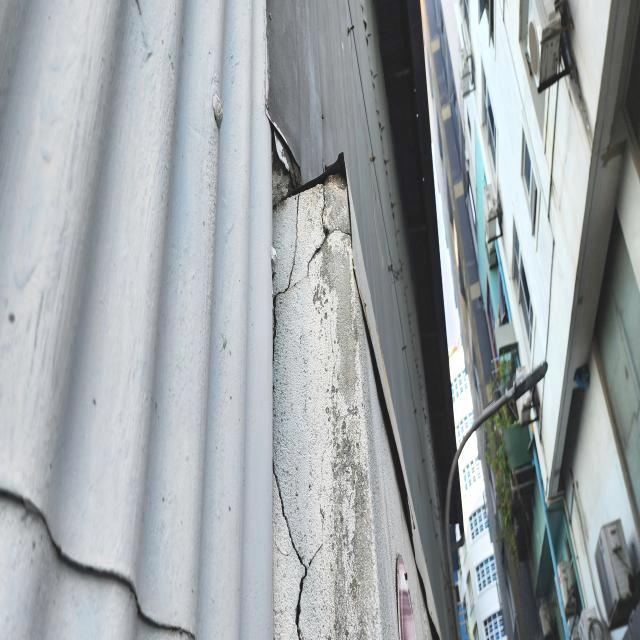SurfaceCrack: (332, 1, 456, 639), (1, 429, 207, 639)
